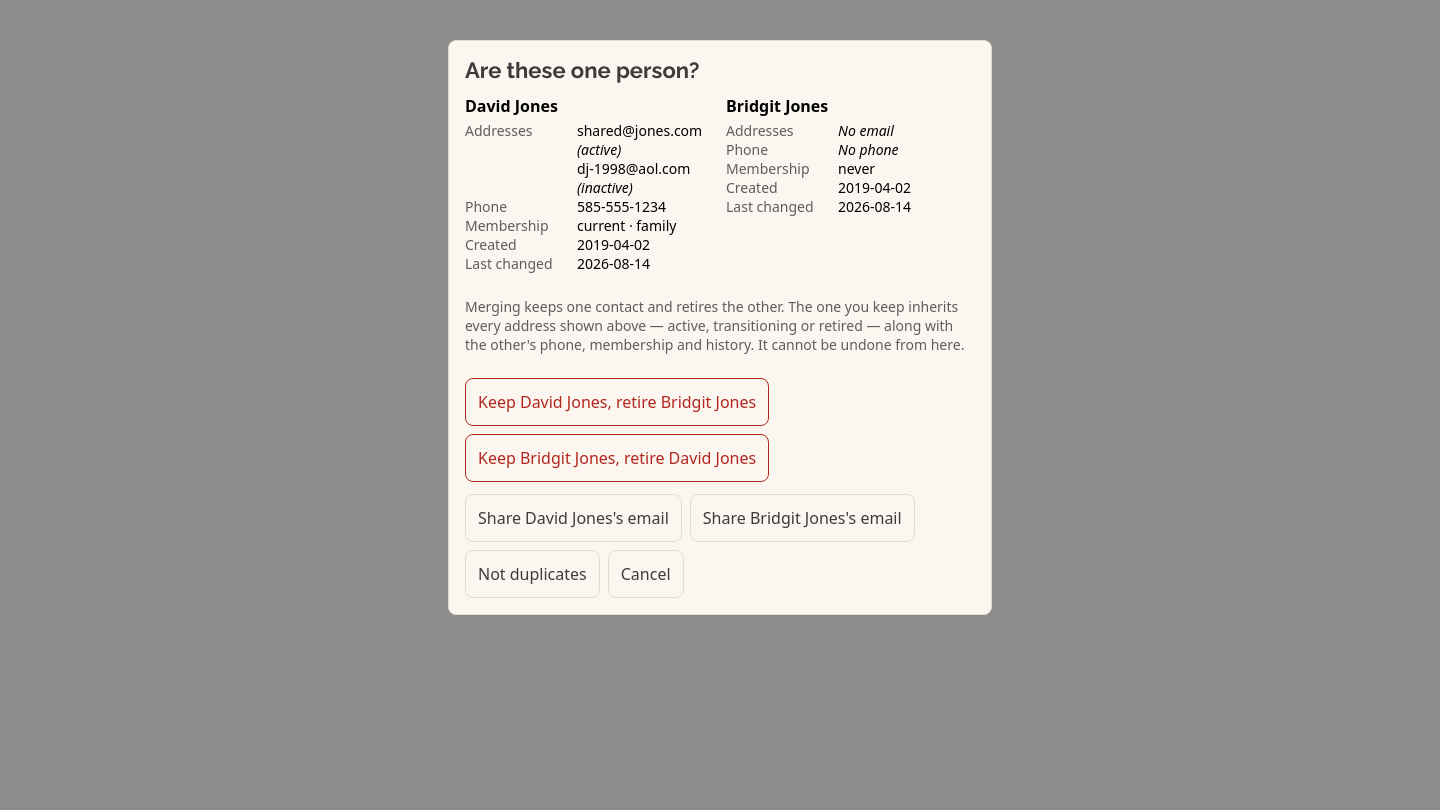
the merge comparison › says so when the contact whose address would be shared has none
Expected: the dialog is shown, [448,40,992,615]
Click the button "Share Bridgit Jones's email" at {"x": 802, "y": 518}, box [690,494,915,542]
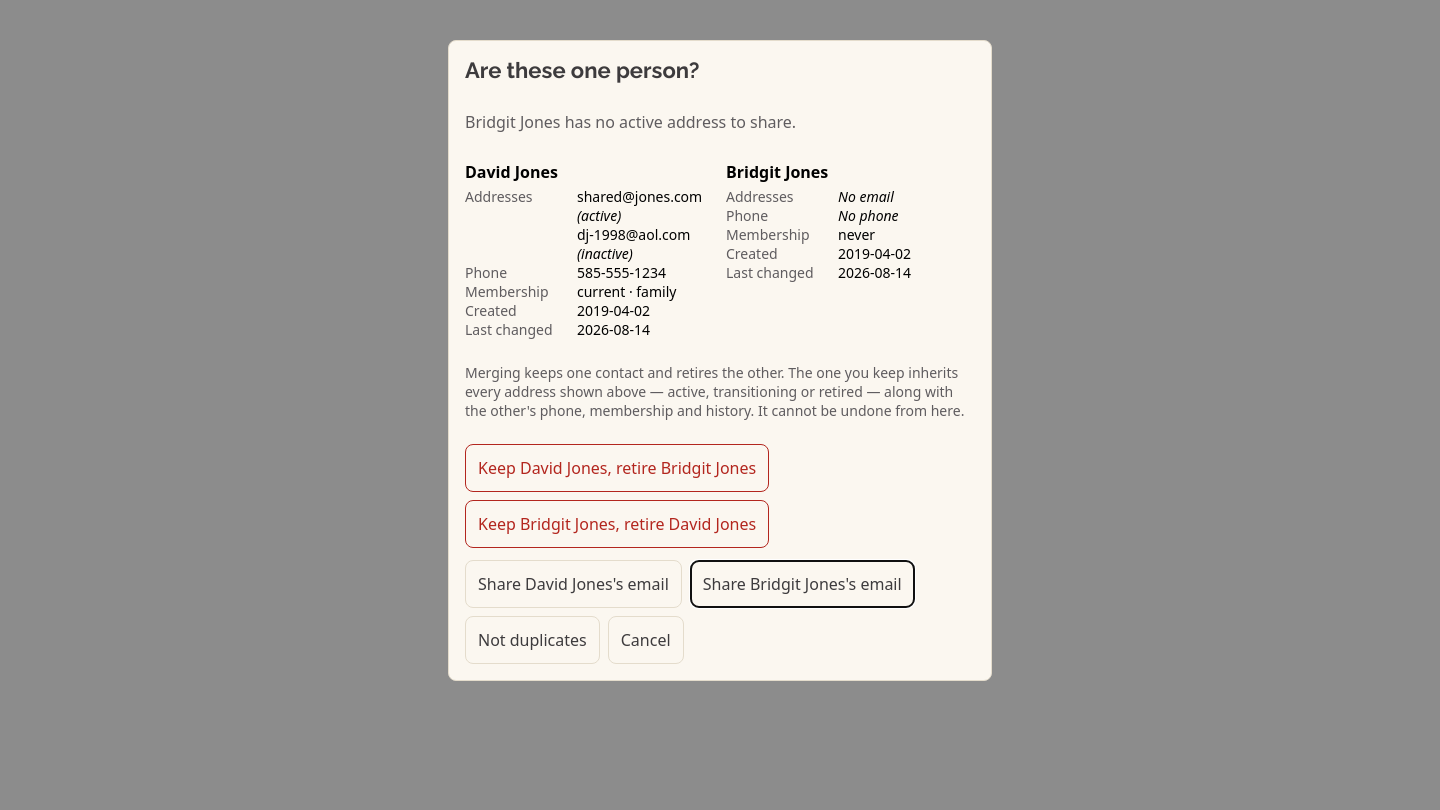
Expected: the text "Bridgit Jones has no active address to share." is shown, [465,111,796,133]
